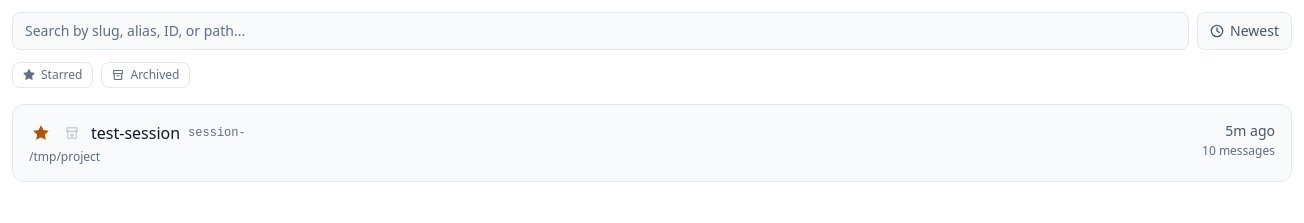
Test case: SessionList › clears all filters on Clear filters click
This screenshot has width=1304, height=223.
Click the button "Starred" at (53, 75), box [12,62,94,88]
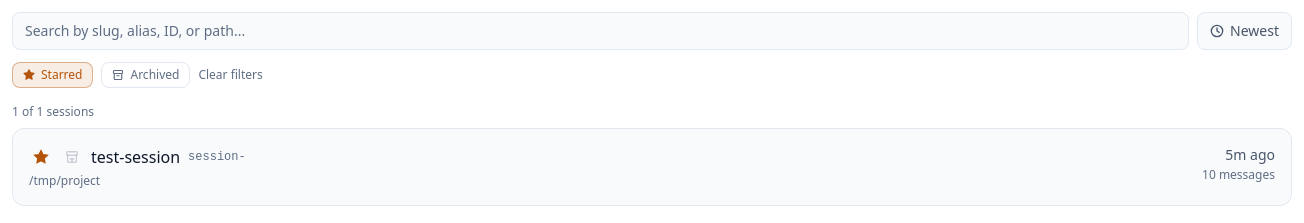
Result: the button "Clear filters" is shown
Click the button "Clear filters" at (231, 75), box [198,67,263,83]
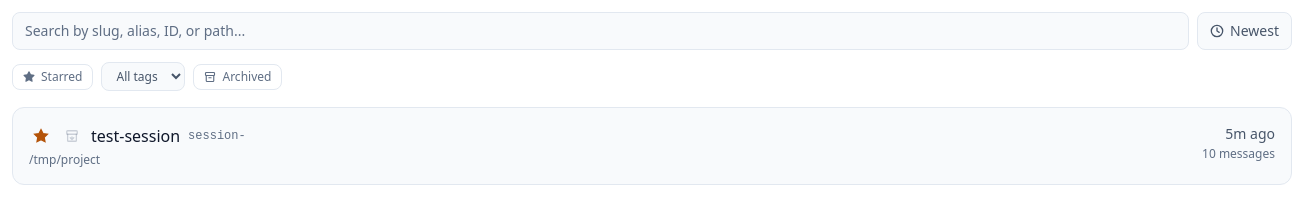
Result: the button "Clear filters" is gone
